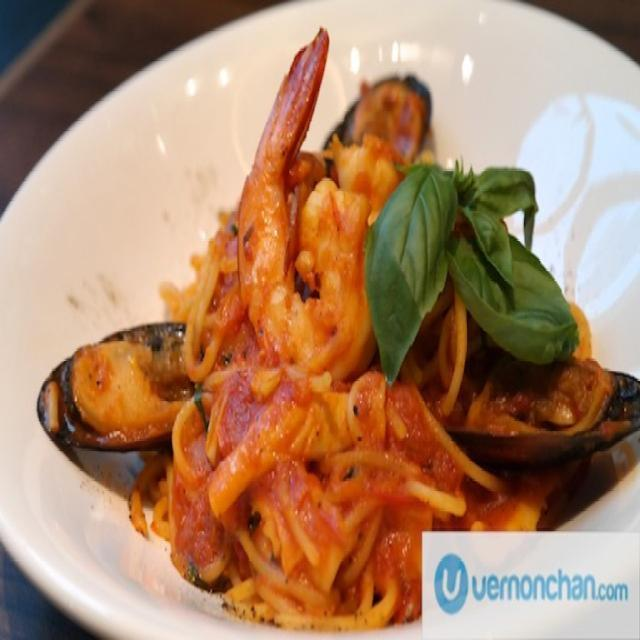Pasta: (145, 68, 617, 592)
